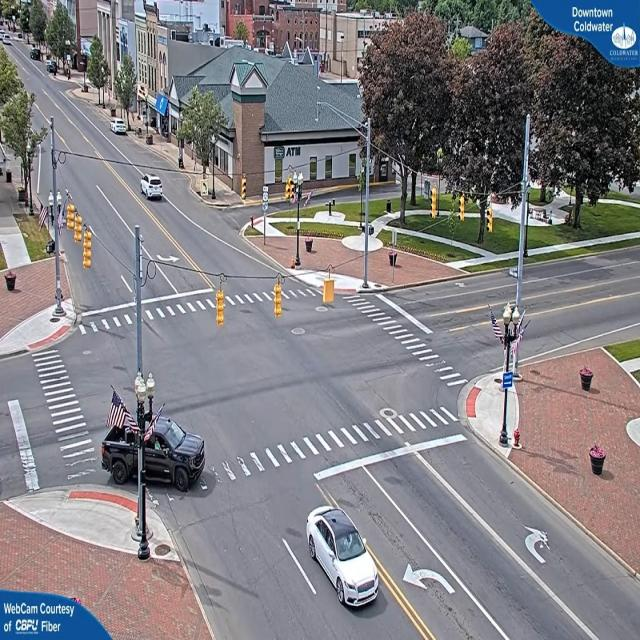car: (102, 416, 206, 487), (308, 508, 379, 609), (140, 176, 164, 202), (112, 121, 130, 138)
